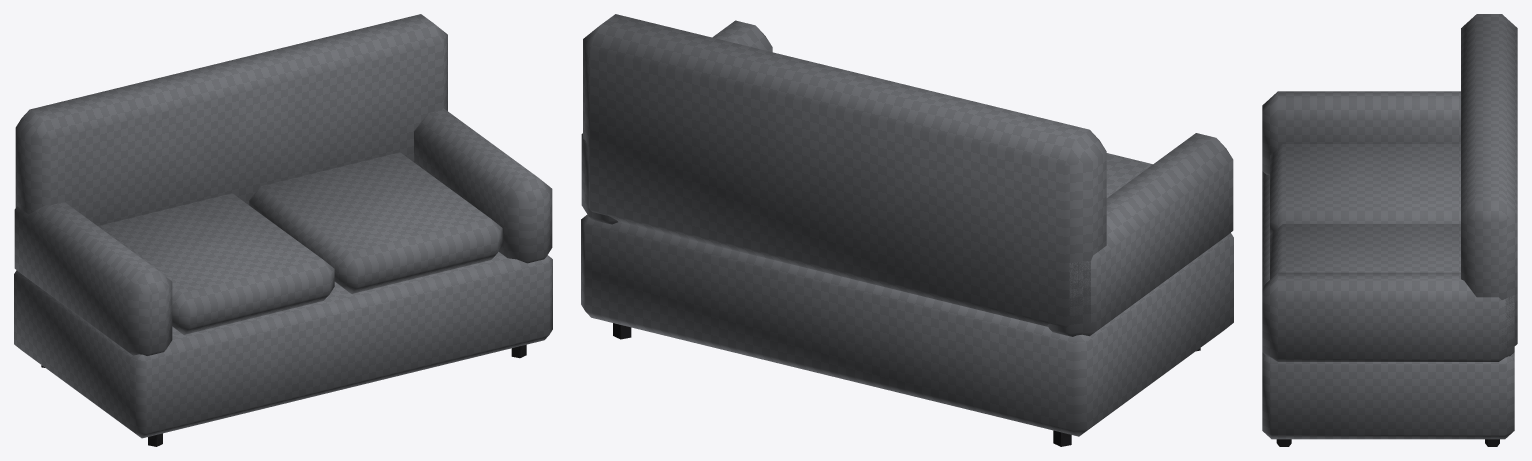
File: sofa.glb
3 views of the same model, side by side, from view 1: azimuth 30°, elevation 25°; view 2: azimuth 150°, elevation 25°; view 3: azimuth 270°, elevation 25° (orthographic). The views are drawn at different scales.
Visible parts, largest first — view 1: Inteiro; view 2: Inteiro; view 3: Inteiro.
Boxes of the visible parts, left/top/right/bottom form: Inteiro: left=14, top=14, right=552, bottom=446; Inteiro: left=581, top=14, right=1233, bottom=446; Inteiro: left=1262, top=14, right=1517, bottom=446.
Size of the model in its own units: 1.52 by 0.875 by 0.81.
1 material, 1 textured.
